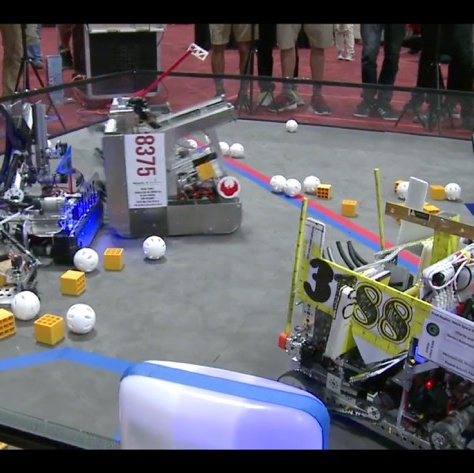robot: (276, 166, 474, 449), (96, 42, 247, 243), (0, 99, 104, 271)
